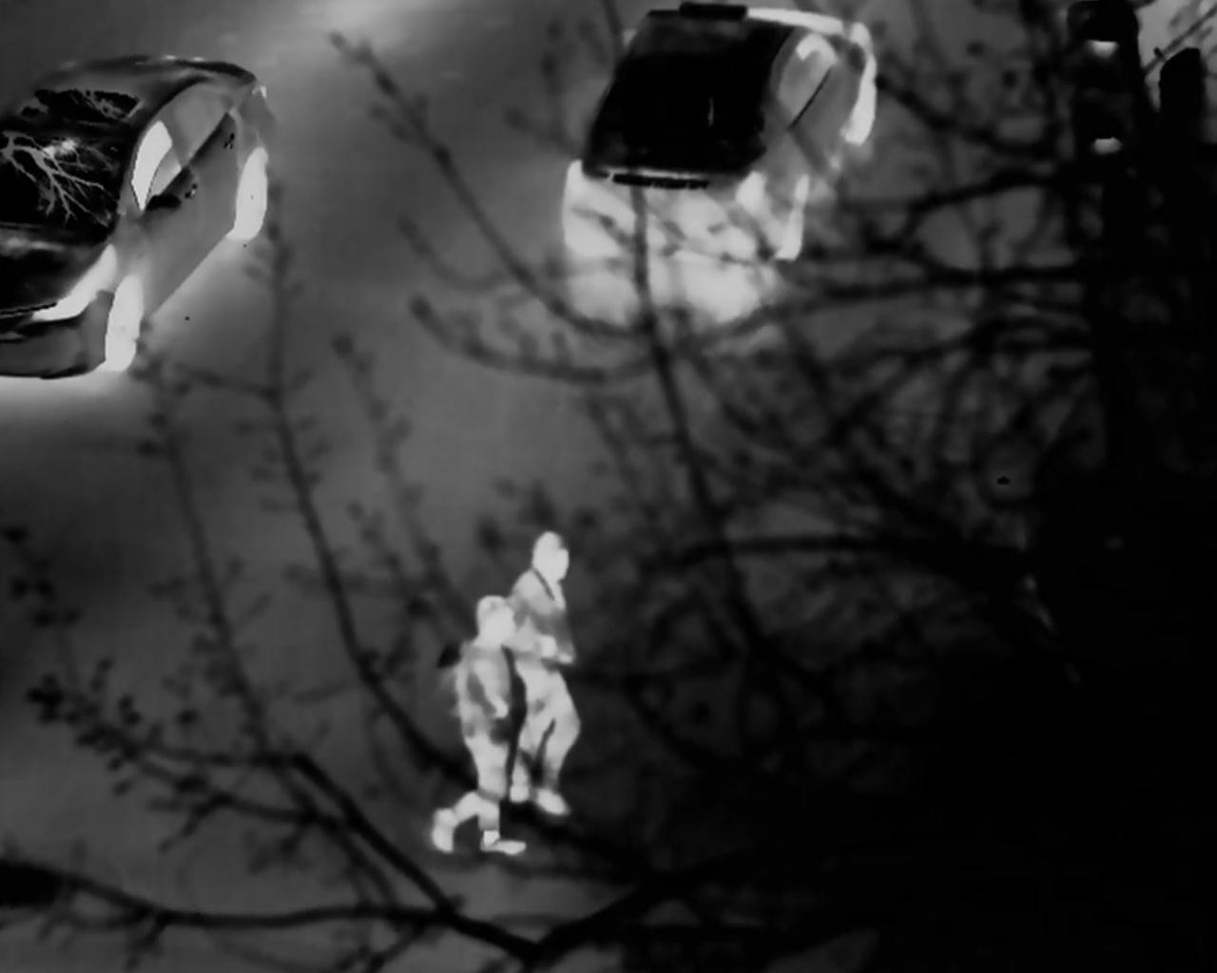person: (438, 594, 528, 859), (510, 525, 590, 813)
